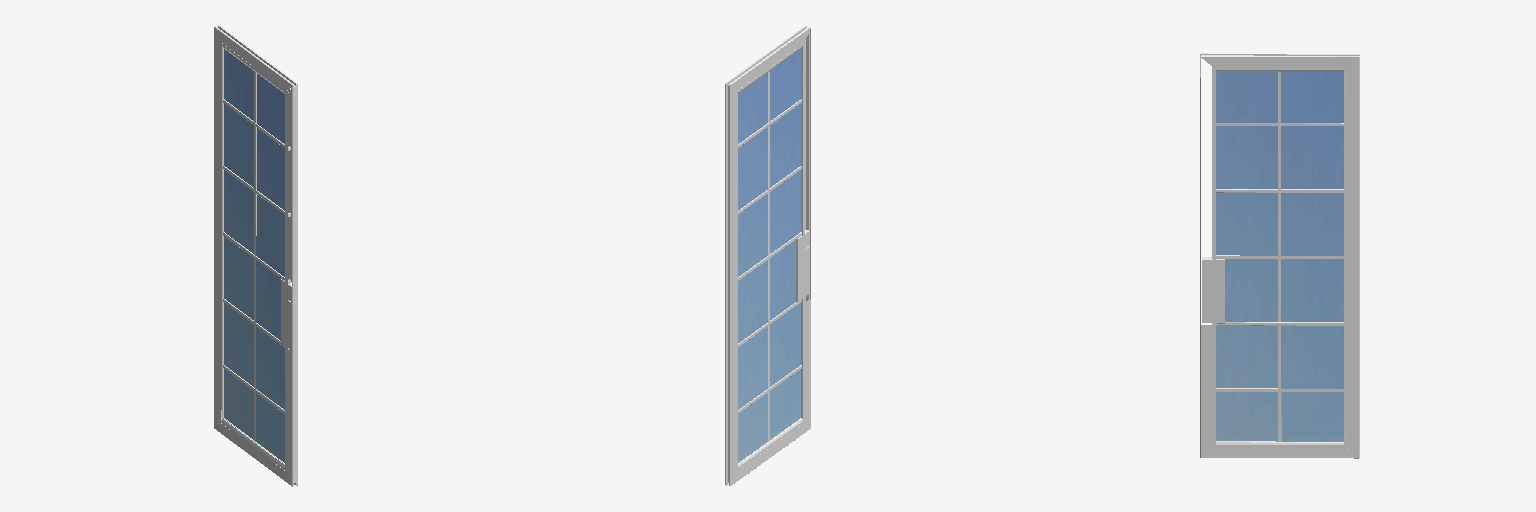
3 renders of one model, left to right at view 1: azimuth 30°, elevation 25°; view 2: azimuth 150°, elevation 25°; view 3: azimuth 270°, elevation 25°, orthographic.
Visible parts, largest first — view 1: Box2658; view 2: Box2658; view 3: Box2658.
Boxes of the visible parts, <box> form: Box2658: <box>214,25,297,486</box>; Box2658: <box>725,26,810,485</box>; Box2658: <box>1200,53,1359,458</box>.
Size of the model in its own units: 0.0168 by 0.9161 by 0.3298.
2 materials, 2 textured.